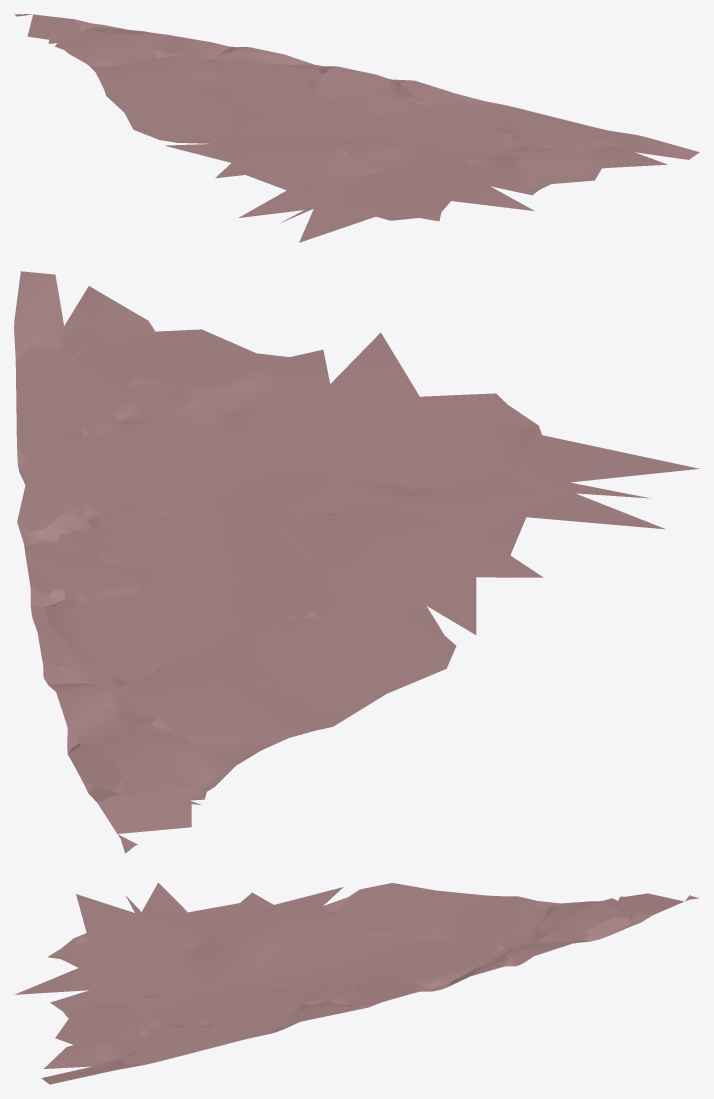
File: pleateauArea1.fbx_PolyShape__46__004LODs.fbx
The picture shows the model from 3 angles, top to bottom: view 1: azimuth 30°, elevation 25°; view 2: azimuth 150°, elevation 25°; view 3: azimuth 270°, elevation 25°; orthographic projection. The views are drawn at different scales.
Visible parts, largest first — view 1: PolyShape (46).004_LOD0; view 2: PolyShape (46).004_LOD0; view 3: PolyShape (46).004_LOD0.
Boxes of the visible parts, x1=… form: PolyShape (46).004_LOD0: x1=14, y1=14, x2=699, y2=242; PolyShape (46).004_LOD0: x1=14, y1=271, x2=699, y2=853; PolyShape (46).004_LOD0: x1=14, y1=882, x2=698, y2=1084.
Size of what is drawn, in the model's own units: 5756 by 101 by 8065.
